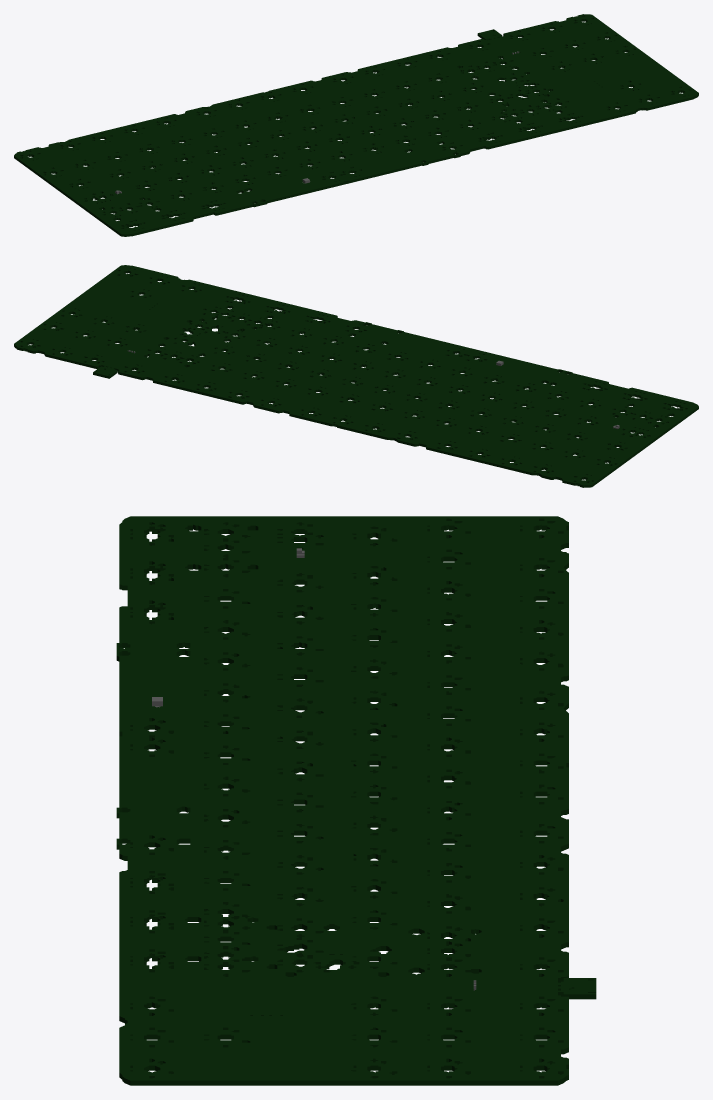
The model's file is infinity88.glb.
The picture shows the model from 3 angles, top to bottom: view 1: azimuth 30°, elevation 25°; view 2: azimuth 150°, elevation 25°; view 3: azimuth 270°, elevation 25°; orthographic projection. The views are drawn at different scales.
Visible parts, largest first — view 1: infinity88; view 2: infinity88; view 3: infinity88.
Boxes of the visible parts, x1=… form: infinity88: x1=14, y1=14, x2=698, y2=236; infinity88: x1=14, y1=265, x2=698, y2=487; infinity88: x1=116, y1=516, x2=596, y2=1085.
Bounding box in the file's own units: 343 × 7 × 123.
